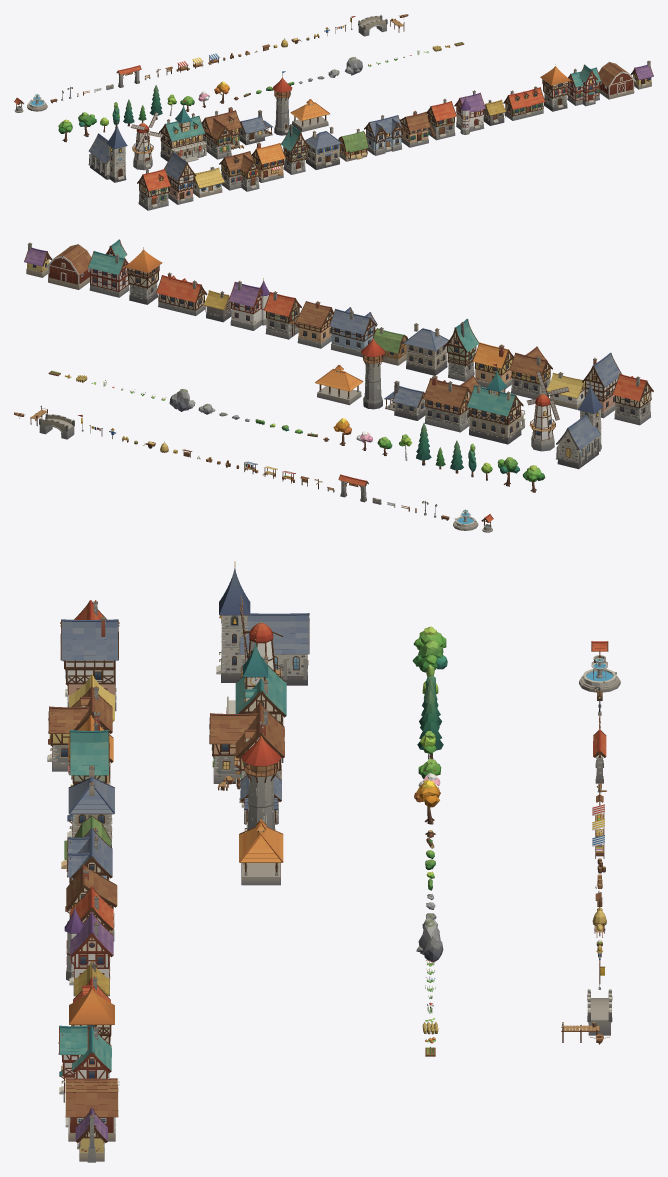
The model's file is village_assets.glb.
The picture shows the model from 3 angles, top to bottom: view 1: azimuth 30°, elevation 25°; view 2: azimuth 150°, elevation 25°; view 3: azimuth 270°, elevation 25°; orthographic projection. The views are drawn at different scales.
Parts seen in each view (by area): view 1: lm_town_hall, lm_chapel, lm_tavern, house_04_farmhouse, house_09_twin_gable, house_02_gabled_townhouse, house_07_stone_manor, house_16_porch_tower_house, house_01_timber_cottage, house_14_long_weaver_house, house_17_red_barn, house_12_turret_house (+14 smaller); view 2: lm_town_hall, lm_chapel, lm_tavern, house_16_porch_tower_house, house_09_twin_gable, house_07_stone_manor, house_01_timber_cottage, house_04_farmhouse, house_12_turret_house, house_14_long_weaver_house, house_17_red_barn, lm_windmill (+14 smaller); view 3: lm_chapel, lm_tavern, house_02_gabled_townhouse, lm_town_hall, house_16_porch_tower_house, house_12_turret_house, house_17_red_barn, house_04_farmhouse, lm_market_hall, lm_watchtower, house_07_stone_manor, house_06_crooked_tower_house (+8 smaller).
Part boxes in pixels (<box>): lm_town_hall: <box>159,100,206,162</box>; lm_chapel: <box>88,121,127,182</box>; lm_tavern: <box>201,107,243,159</box>; house_04_farmhouse: <box>219,151,261,191</box>; house_09_twin_gable: <box>364,115,403,155</box>; house_02_gabled_townhouse: <box>164,151,196,204</box>; house_07_stone_manor: <box>305,126,341,169</box>; house_16_porch_tower_house: <box>567,64,601,106</box>; house_01_timber_cottage: <box>137,169,170,210</box>; house_14_long_weaver_house: <box>503,86,545,120</box>; house_17_red_barn: <box>598,62,635,99</box>; house_12_turret_house: <box>454,90,485,134</box>; lm_town_hall: <box>467,363,525,444</box>; lm_chapel: <box>556,380,603,469</box>; lm_tavern: <box>423,375,478,432</box>; house_16_porch_tower_house: <box>88,239,129,297</box>; house_09_twin_gable: <box>329,307,377,357</box>; house_07_stone_manor: <box>404,323,448,375</box>; house_01_timber_cottage: <box>612,373,653,425</box>; house_04_farmhouse: <box>509,346,552,398</box>; house_12_turret_house: <box>228,278,269,330</box>; house_14_long_weaver_house: <box>156,272,207,315</box>; house_17_red_barn: <box>46,244,91,289</box>; lm_windmill: <box>527,371,569,451</box>; lm_chapel: <box>216,561,309,685</box>; lm_tavern: <box>209,702,284,790</box>; house_02_gabled_townhouse: <box>60,616,119,711</box>; lm_town_hall: <box>226,632,286,762</box>; house_16_porch_tower_house: <box>58,1025,111,1102</box>; house_12_turret_house: <box>64,904,113,996</box>; house_17_red_barn: <box>64,1078,119,1141</box>; house_04_farmhouse: <box>47,686,112,771</box>; lm_market_hall: <box>239,819,283,885</box>; lm_watchtower: <box>241,722,281,830</box>; house_07_stone_manor: <box>67,765,114,847</box>; house_06_crooked_tower_house: <box>69,721,109,785</box>.
Size of the model in its own units: 624 by 76.87 by 305.
1 material, 1 textured.
